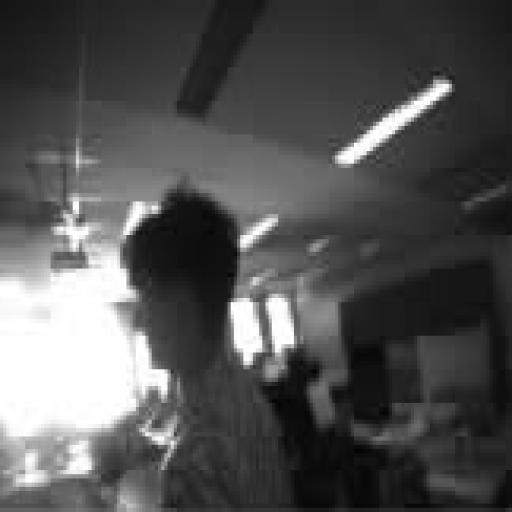human: (121, 185, 290, 507)
